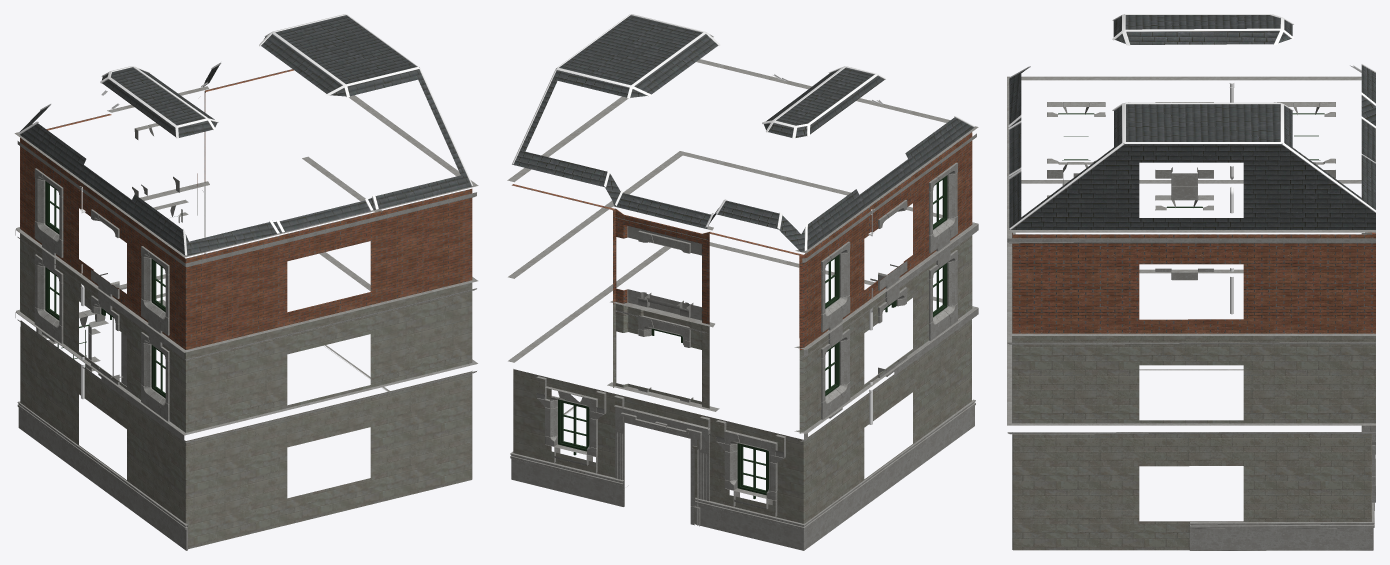
The model's file is B_BuildingCourtyard_adapted.glb.
3 renders of one model, left to right at view 1: azimuth 30°, elevation 25°; view 2: azimuth 150°, elevation 25°; view 3: azimuth 270°, elevation 25°, orthographic. The views are drawn at different scales.
Bounding box in the file's own units: 10.6 × 12.92 × 10.6.
6 materials, 5 textured.
